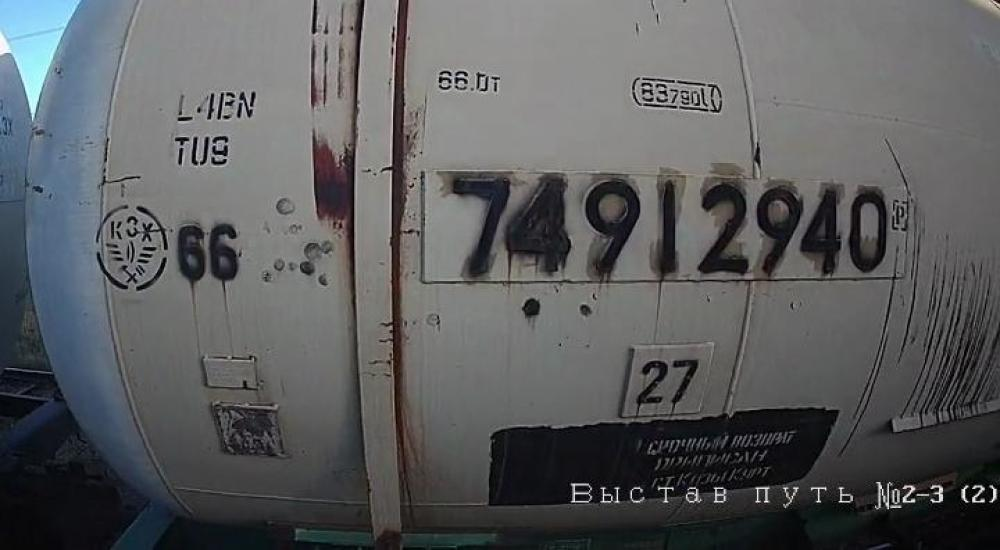Wagon-number: (442, 170, 892, 278)
